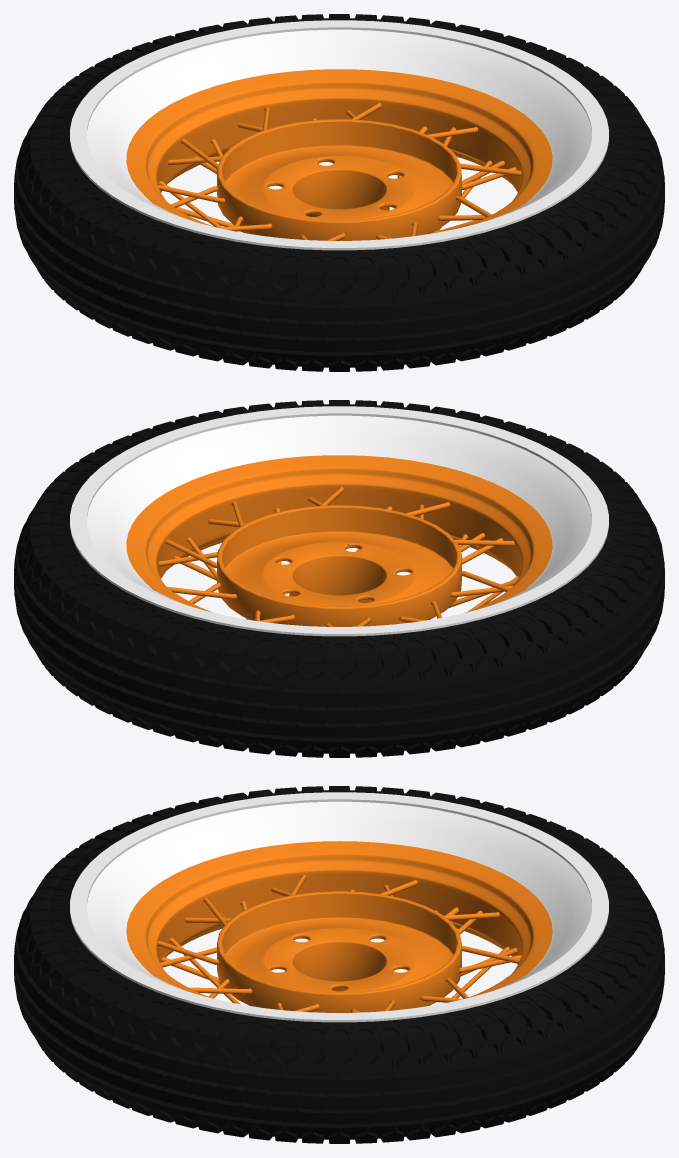
Rendered from OldSpokeWheelLeft.fbx.
3 views of the same model, one above another, from view 1: azimuth 30°, elevation 25°; view 2: azimuth 150°, elevation 25°; view 3: azimuth 270°, elevation 25° (orthographic).
Parts seen in each view (by area): view 1: Tire, Rim.3, Rim.1, Spokes; view 2: Tire, Rim.3, Rim.1, Spokes; view 3: Tire, Rim.3, Rim.1, Spokes.
Boxes of the visible parts, x1,y1,x2,y2 form: Tire: [14, 14, 664, 371]; Rim.3: [126, 69, 552, 226]; Rim.1: [217, 119, 461, 240]; Spokes: [153, 102, 521, 240]; Tire: [14, 400, 664, 757]; Rim.3: [126, 455, 552, 612]; Rim.1: [217, 505, 461, 626]; Spokes: [158, 486, 518, 626]; Tire: [14, 786, 664, 1143]; Rim.3: [126, 841, 552, 998]; Rim.1: [217, 891, 461, 1012]; Spokes: [157, 874, 521, 1012].
Bounding box in the file's own units: 32.53 × 8.09 × 32.53.
